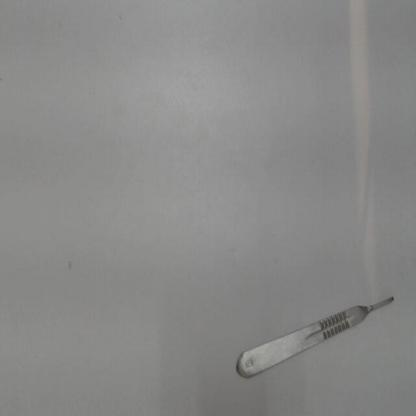No.3 BP Handle: (230, 282, 400, 386)
